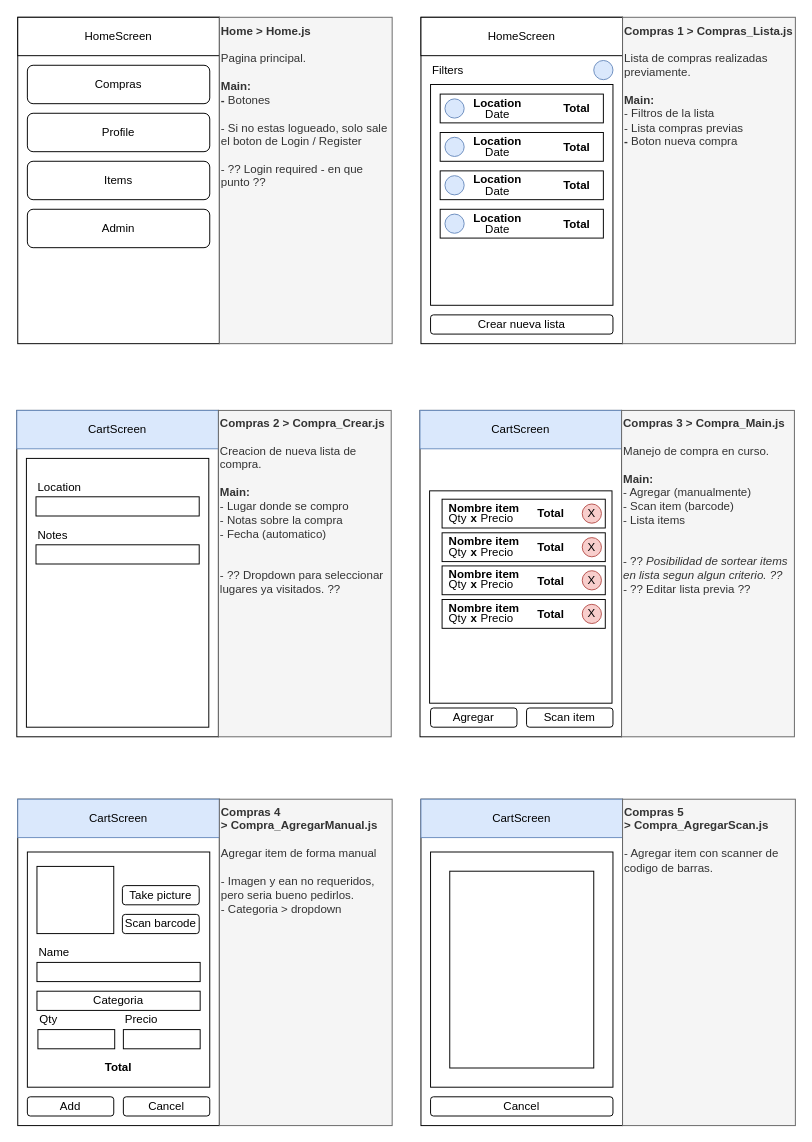
Image size: 812x1142. Some labels were removed from this diagram. Here are the shapes that lost their labels. From the top down, the centre of each, then its label:
At (x=75, y=899): "Image".
At (x=521, y=969): "Camera".
